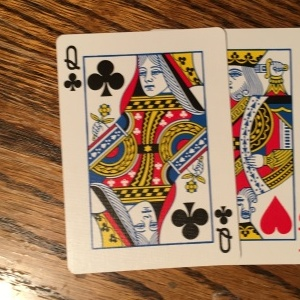card: (58, 28, 242, 272)
